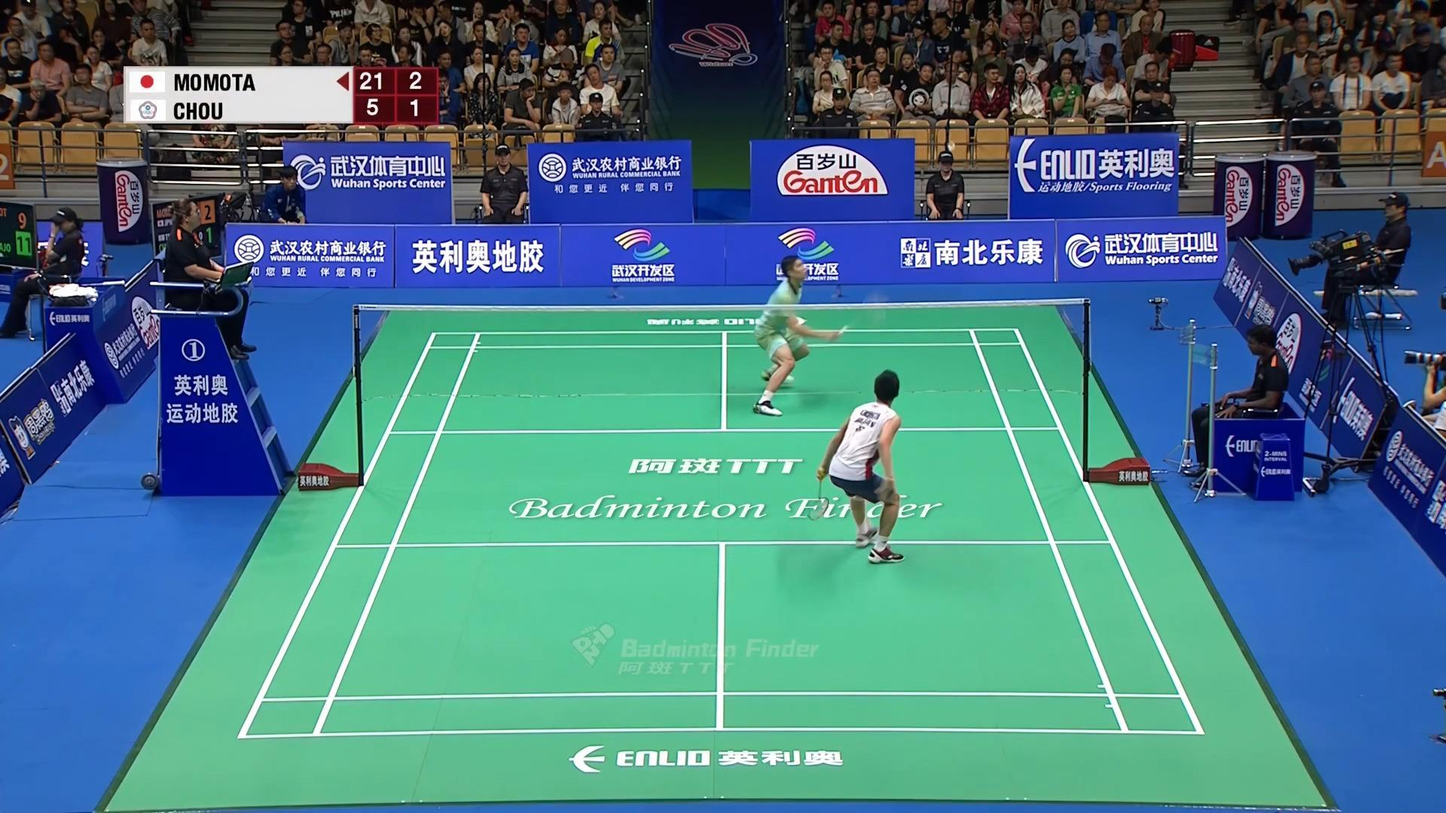player: (816, 371, 905, 565), (754, 256, 842, 417)
